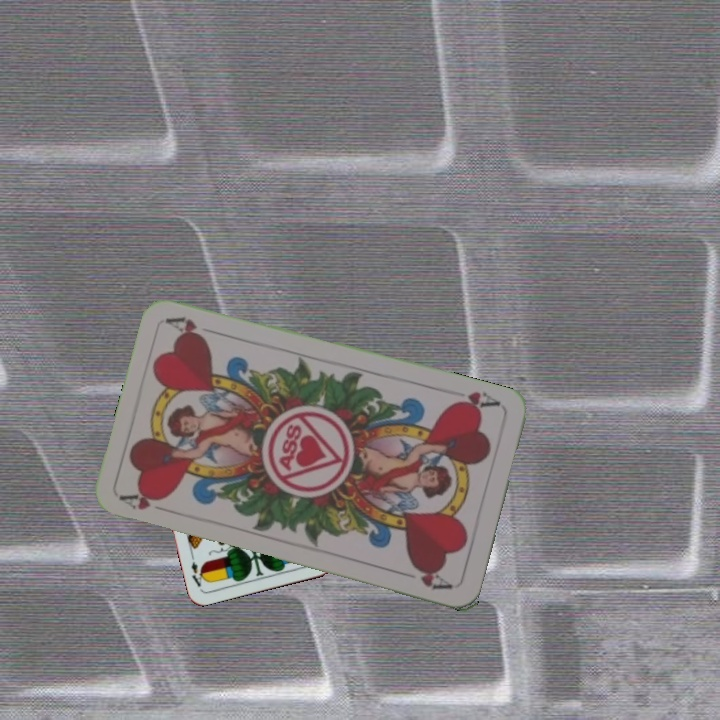HA: (117, 486, 175, 516), (445, 387, 504, 415)
